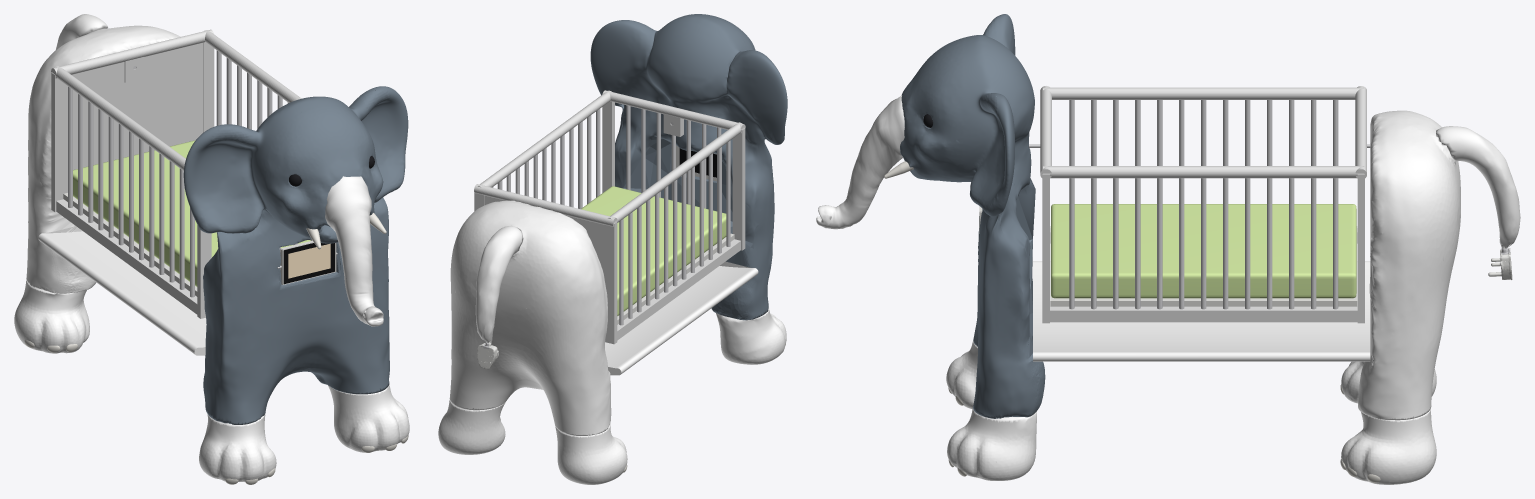
The model's file is 3Dmodel.glb.
3 renders of one model, left to right at view 1: azimuth 30°, elevation 25°; view 2: azimuth 150°, elevation 25°; view 3: azimuth 270°, elevation 25°, orthographic. The views are drawn at different scales.
Visible parts, largest first — view 1: Body_Front_HeadChest, Bassinet_Frame, Body_Rear_Rump, Belly_Tray, Mattress_900x500, Trunk, Leg_Back_R, Leg_Front_L, Leg_Front_R, Display_ActiveArea, Tail, Bassinet_BaseBoard (+15 smaller); view 2: Body_Rear_Rump, Body_Front_HeadChest, Bassinet_Frame, Mattress_900x500, Belly_Tray, Tail, Leg_Back_R, Leg_Front_R, Leg_Back_L, Rod_SideR_06, Bassinet_BaseBoard, Rod_SideR_07 (+17 smaller); view 3: Body_Front_HeadChest, Body_Rear_Rump, Mattress_900x500, Bassinet_Frame, Belly_Tray, Leg_Back_L, Leg_Front_L, Trunk, Tail, Bassinet_BaseBoard, Leg_Front_R, Rod_SideL_06 (+13 smaller).
Boxes of the visible parts, box(x1,y1,x2,y2) form: Body_Front_HeadChest: box(183, 86, 408, 424); Bassinet_Frame: box(51, 29, 301, 318); Body_Rear_Rump: box(26, 25, 180, 293); Belly_Tray: box(38, 227, 206, 355); Mattress_900x500: box(73, 140, 310, 286); Trunk: box(325, 176, 383, 326); Leg_Back_R: box(14, 280, 89, 353); Leg_Front_L: box(328, 383, 409, 452); Leg_Front_R: box(199, 414, 276, 482); Display_ActiveArea: box(288, 243, 330, 278); Tail: box(56, 14, 107, 49); Bassinet_BaseBoard: box(63, 193, 197, 296); Body_Rear_Rump: box(449, 200, 611, 435); Body_Front_HeadChest: box(590, 14, 787, 320); Bassinet_Frame: box(474, 90, 745, 344); Mattress_900x500: box(581, 186, 726, 315); Belly_Tray: box(605, 261, 758, 375); Tail: box(475, 226, 523, 369); Leg_Back_R: box(555, 424, 627, 484); Leg_Front_R: box(716, 306, 786, 364); Leg_Back_L: box(438, 400, 505, 454); Rod_SideR_06: box(681, 173, 686, 279); Bassinet_BaseBoard: box(617, 233, 734, 324); Rod_SideR_07: box(673, 179, 677, 286); Body_Front_HeadChest: box(900, 14, 1045, 418); Body_Rear_Rump: box(1358, 110, 1460, 420); Mattress_900x500: box(1051, 204, 1356, 298); Bassinet_Frame: box(1040, 86, 1366, 323); Belly_Tray: box(1033, 261, 1370, 361); Leg_Back_L: box(1341, 407, 1436, 484); Leg_Front_L: box(947, 408, 1036, 480); Trunk: box(816, 95, 904, 229); Tail: box(1436, 126, 1520, 280); Bassinet_BaseBoard: box(1050, 226, 1357, 306); Leg_Front_R: box(946, 340, 977, 409); Rod_SideL_06: box(1179, 178, 1184, 309).
Bounding box in the file's own units: 0.8225 × 1.28 × 2.07.
